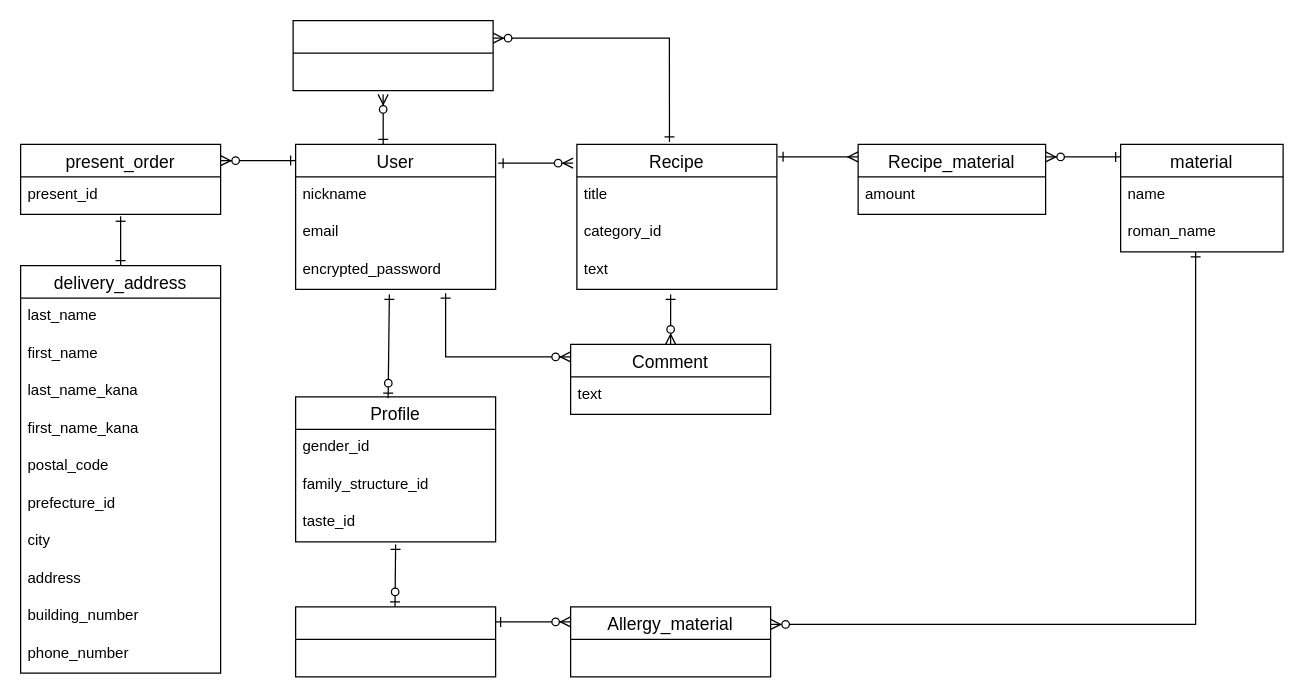
Some shapes in this 1304 by 698 pixel diagram are drawn without their labels. Each missing label, with the centre of its shape:
"Allergy" belongs at (x=395, y=641).
"Clip" belongs at (x=392, y=55).
